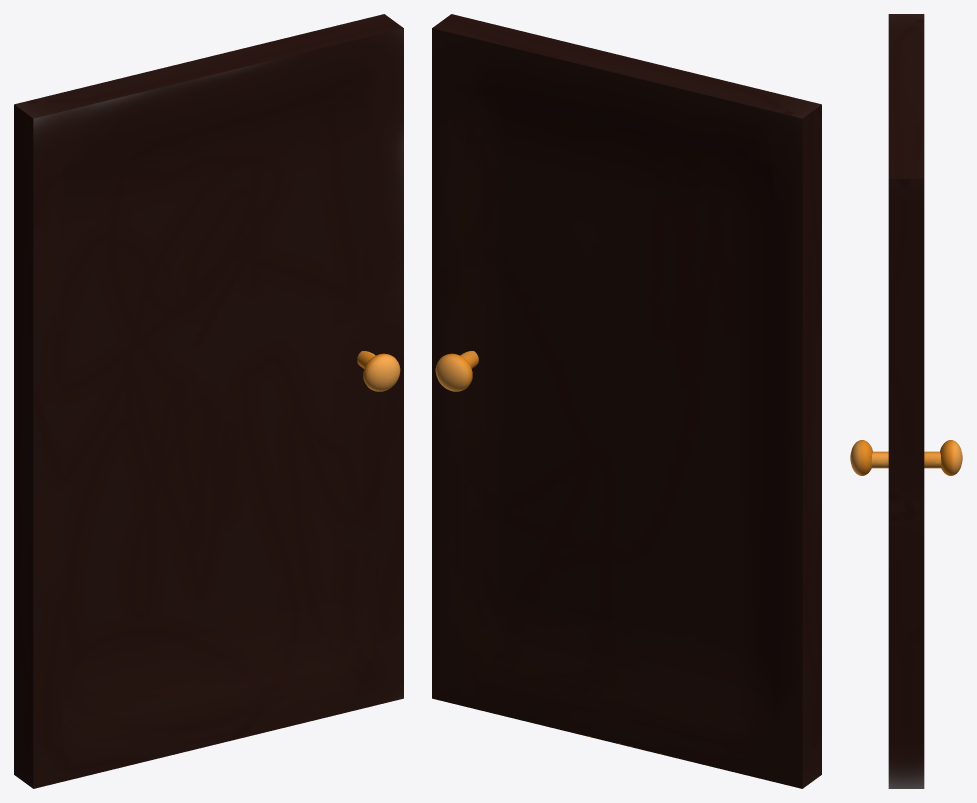
The model's file is Door.fbx.
3 renders of one model, left to right at view 1: azimuth 30°, elevation 25°; view 2: azimuth 150°, elevation 25°; view 3: azimuth 270°, elevation 25°, orthographic. The views are drawn at different scales.
Visible parts, largest first — view 1: pCube2; view 2: pCube2; view 3: pCube2.
Boxes of the visible parts, <box> form: pCube2: <box>14,14,403,788</box>; pCube2: <box>432,14,821,788</box>; pCube2: <box>850,14,962,788</box>.
Size of the model in its own units: 11 by 19.03 by 3.17.
1 material, 1 textured.
